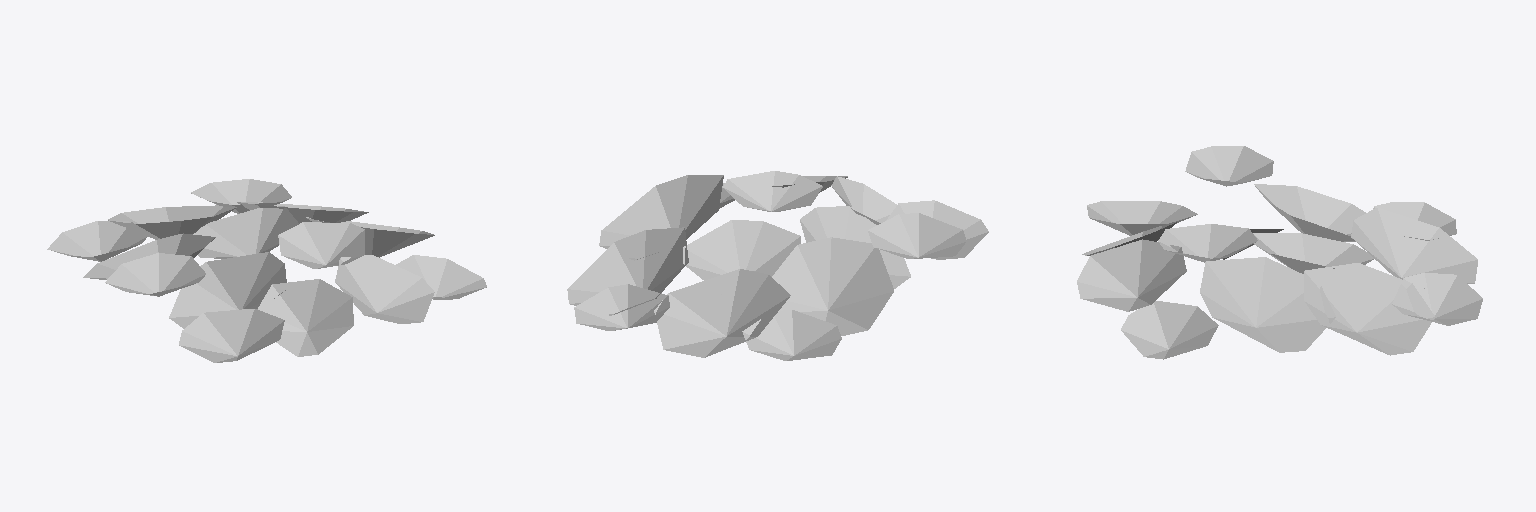
Rendered from Plant_7_Big.obj.
3 renders of one model, left to right at view 1: azimuth 30°, elevation 25°; view 2: azimuth 150°, elevation 25°; view 3: azimuth 270°, elevation 25°, orthographic.
Visible parts, largest first — view 1: Plant_7_Big; view 2: Plant_7_Big; view 3: Plant_7_Big.
Part boxes in pixels (x1,y1,x2,y2): Plant_7_Big: (47, 179, 486, 362); Plant_7_Big: (567, 171, 988, 360); Plant_7_Big: (1077, 146, 1482, 359).
Bounding box in the file's own units: 1.31 × 0.2534 × 1.36.